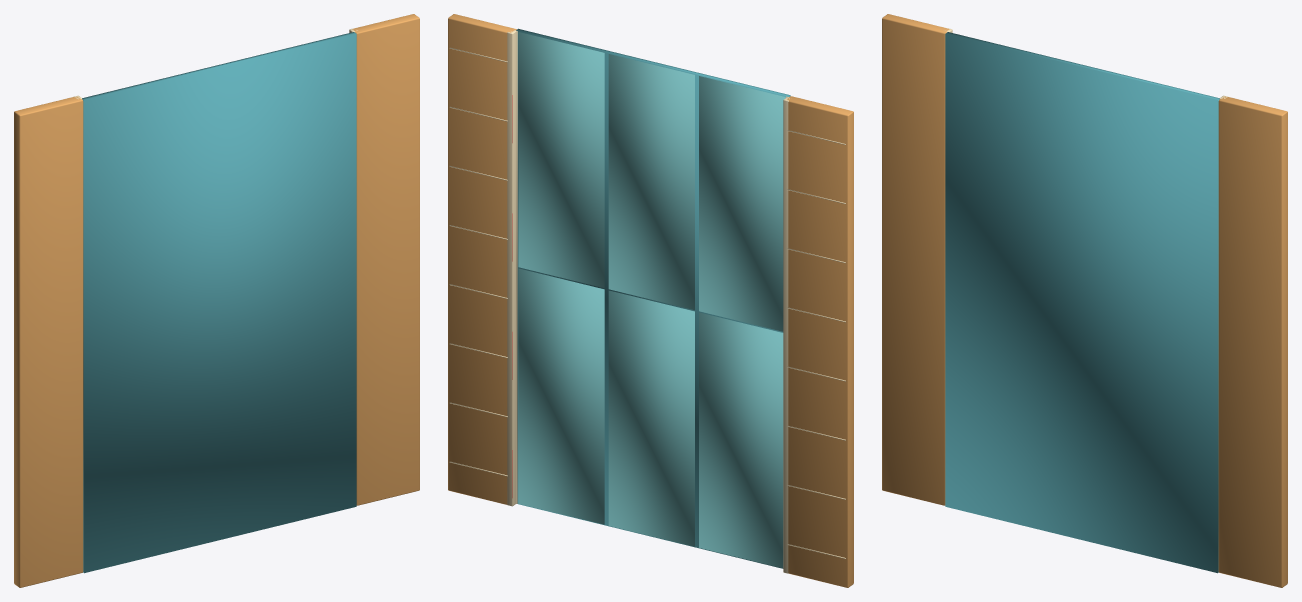
Rendered from ArcadeStreet.fbx.
The picture shows the model from 3 angles, left to right: view 1: azimuth 30°, elevation 25°; view 2: azimuth 150°, elevation 25°; view 3: azimuth 330°, elevation 25°; orthographic projection.
Visible parts, largest first — view 1: ArcadeStreet; view 2: ArcadeStreet; view 3: ArcadeStreet.
Part boxes in pixels (x1,y1,x2,y2): ArcadeStreet: (14, 14, 419, 587); ArcadeStreet: (448, 14, 853, 587); ArcadeStreet: (882, 14, 1287, 587).
Bounding box in the file's own units: 7.09 × 8 × 0.202.
